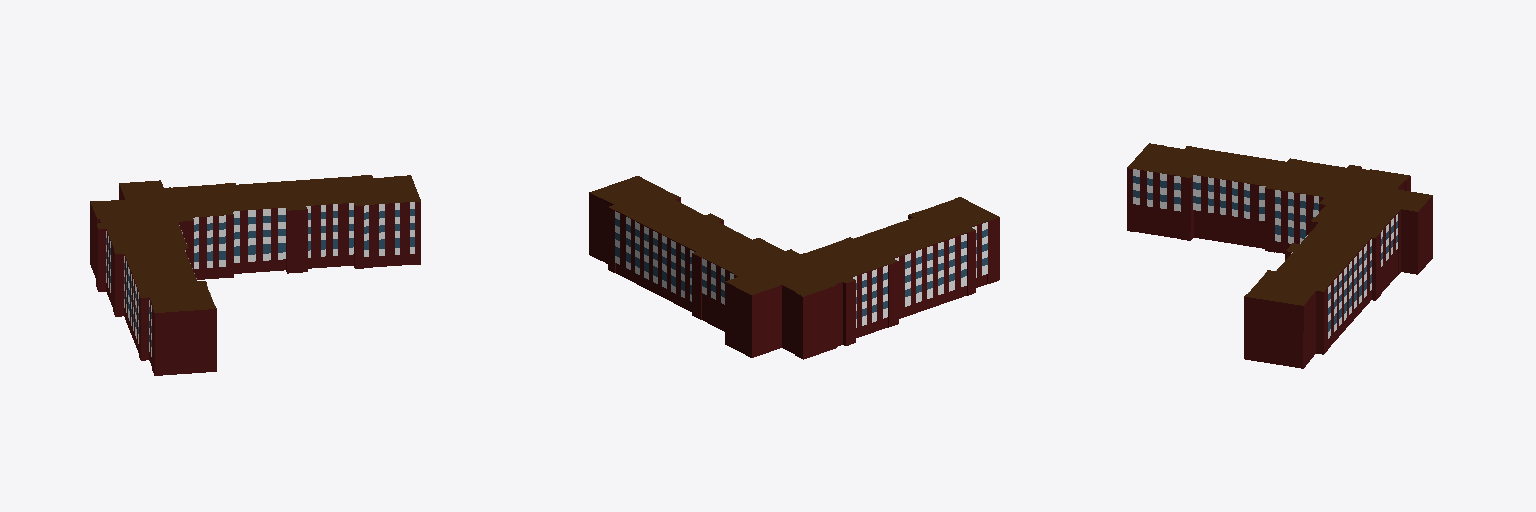
File: ChesapeakeHall.obj
The picture shows the model from 3 angles: view 1: azimuth 30°, elevation 25°; view 2: azimuth 150°, elevation 25°; view 3: azimuth 270°, elevation 25°; orthographic projection.
Visible parts, largest first — view 1: SM_Chespk; view 2: SM_Chespk; view 3: SM_Chespk.
Boxes of the visible parts, <box> form: SM_Chespk: <box>90,175,420,375</box>; SM_Chespk: <box>589,176,999,359</box>; SM_Chespk: <box>1127,143,1432,368</box>.
Size of the model in its own units: 9149 by 1650 by 7275.